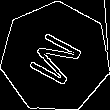M_SE: (23, 25, 88, 90)
